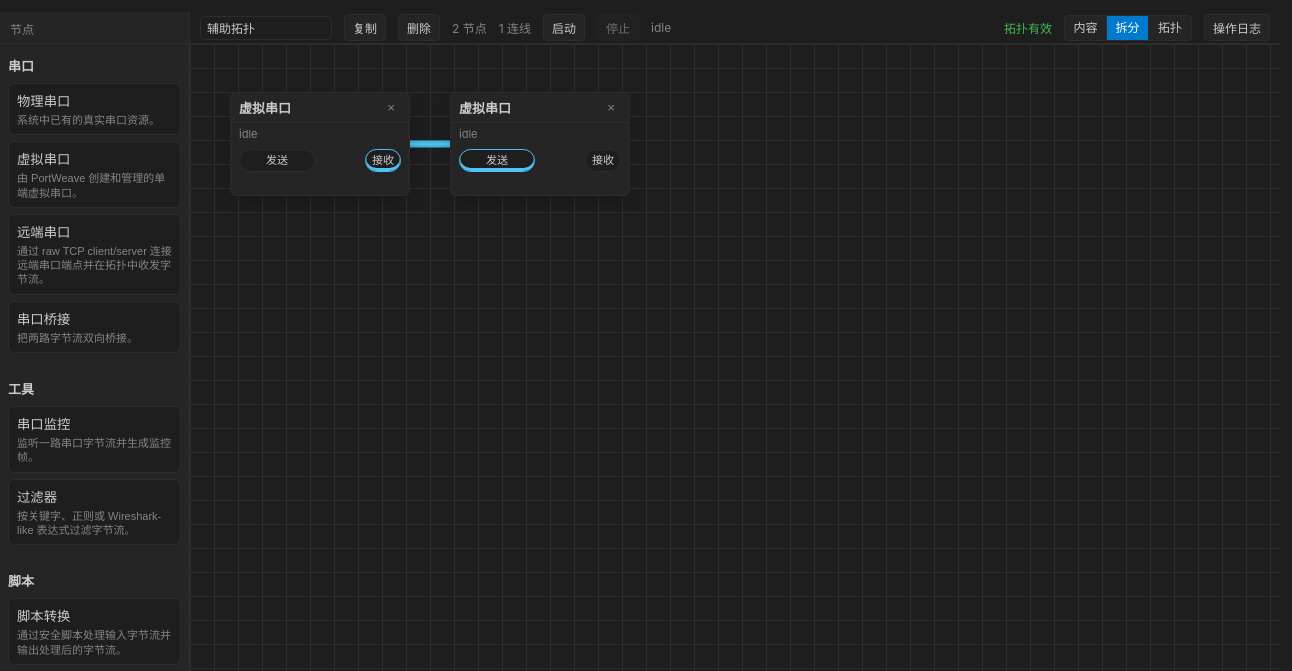
Test: SerialGraphPanel › starts a scoped graph panel runtime without switching the active graph
The width and height of the screenshot is (1292, 671).
Click the button with test id "serial-graph-start" at (564, 28), box [543,14,585,41]
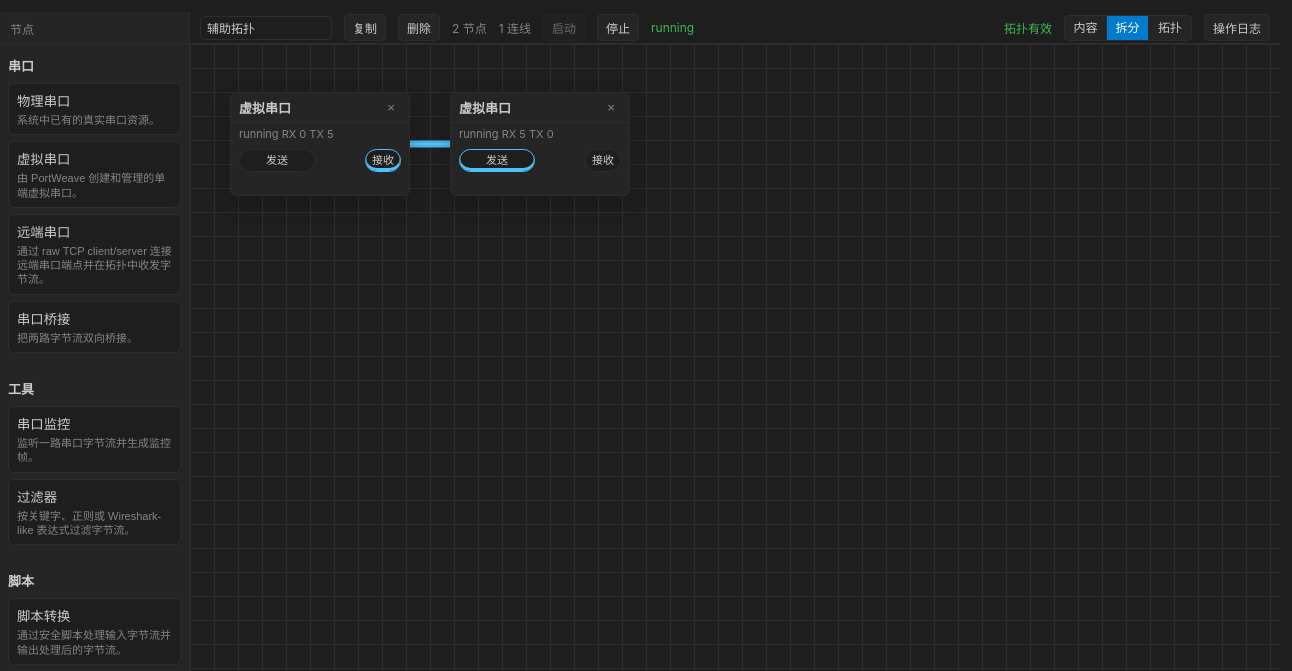
Check: the text with test id "serial-graph-runtime-status" reads "running", box [651,20,694,35]
